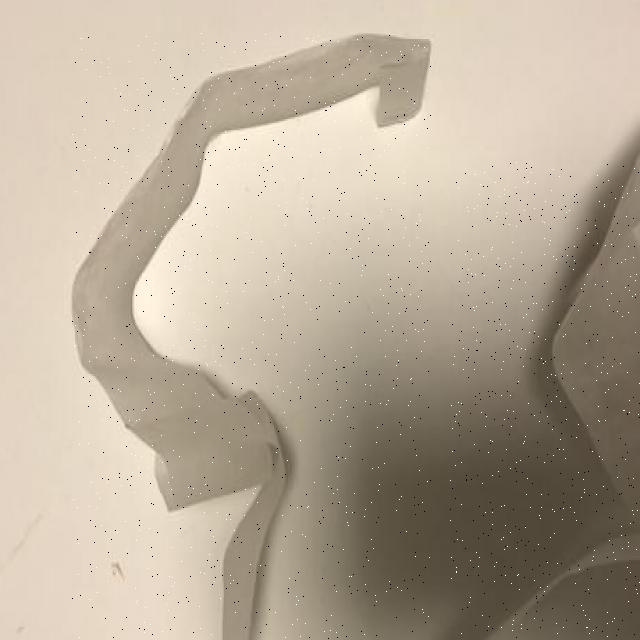paper: (73, 34, 431, 640), (451, 163, 640, 640)
